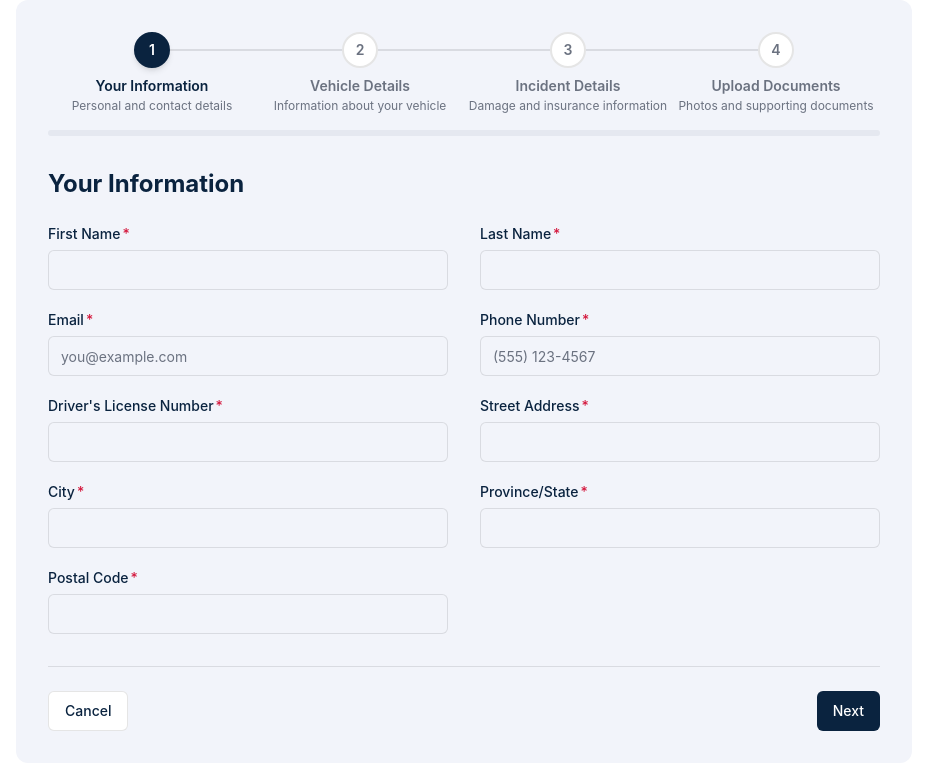
Test: SubmitClaimPage › rejects an invalid email format
Step 1. Type "not-an-email" into the field labelled "Email*" → [248, 356], box [48,336,448,376]
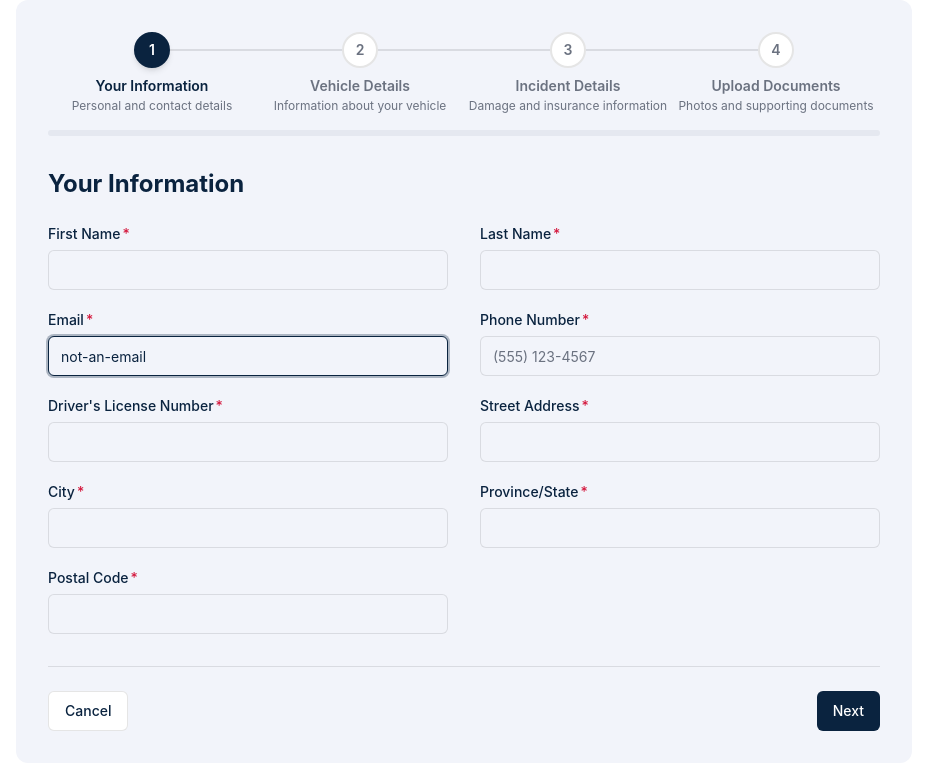
Step 2. Click the button "Next" → [848, 711], box [817,691,880,731]
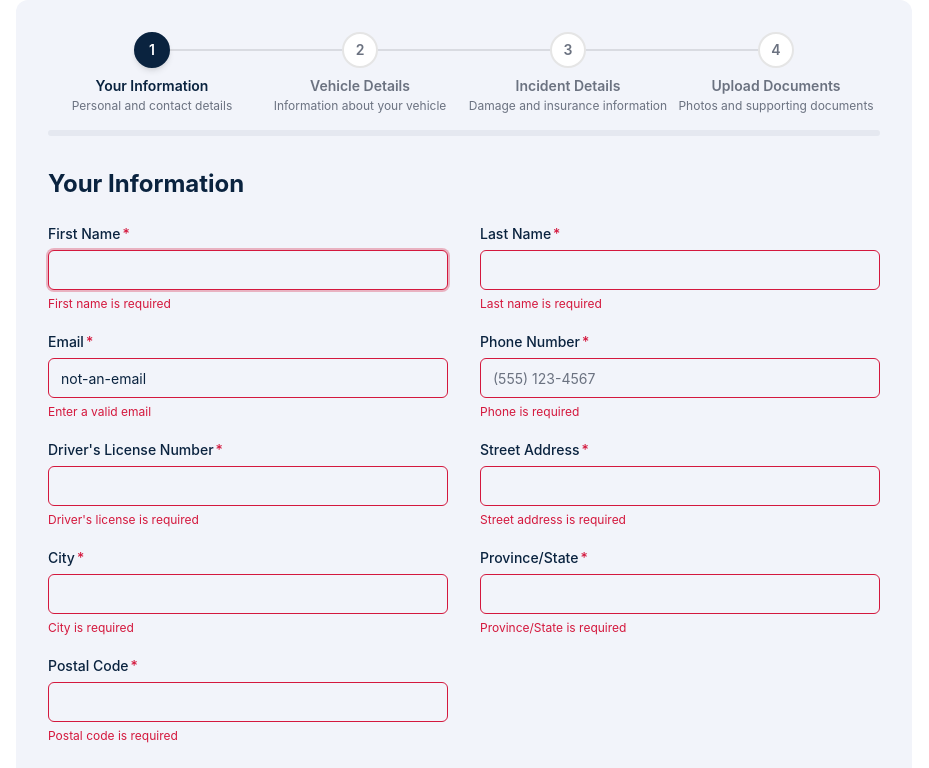
Expected: the text "Enter a valid email" is shown, [48,404,151,419]
